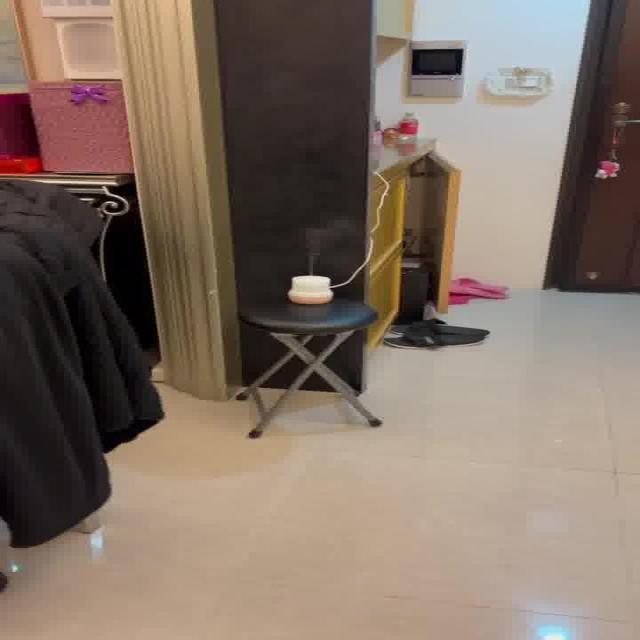fire: (290, 222, 352, 270)
